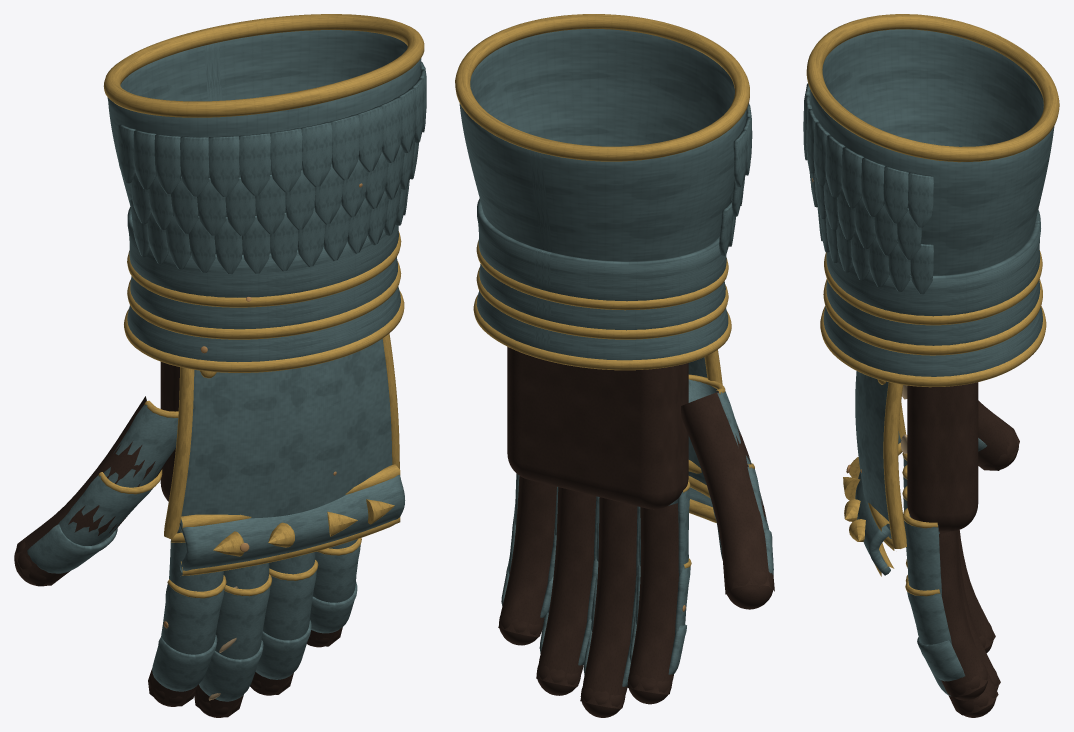
3 views of the same model, side by side, from view 1: azimuth 30°, elevation 25°; view 2: azimuth 150°, elevation 25°; view 3: azimuth 270°, elevation 25° (orthographic). The views are drawn at different scales.
Visible parts, largest first — view 1: blued scale plate, gilded alloy, tanned leather; view 2: blued scale plate, tanned leather, gilded alloy; view 3: blued scale plate, gilded alloy, tanned leather.
Boxes of the visible parts, x1,y1,x2,y2 form: blued scale plate: (27,30,426,701); gilded alloy: (98,14,424,598); tanned leather: (14,362,342,717); blued scale plate: (459,29,773,686); tanned leather: (498,347,774,717); gilded alloy: (455,14,754,568); blued scale plate: (803,29,1054,696); gilded alloy: (806,14,1059,596); tanned leather: (907,382,1019,717).
Bounding box in the file's own units: 0.1676 × 0.3032 × 0.1083.
Materials: 5 (3 with a texture image).
